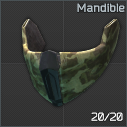Ops-Core FAST Gunsight Mandible: (0, 0, 127, 127)
